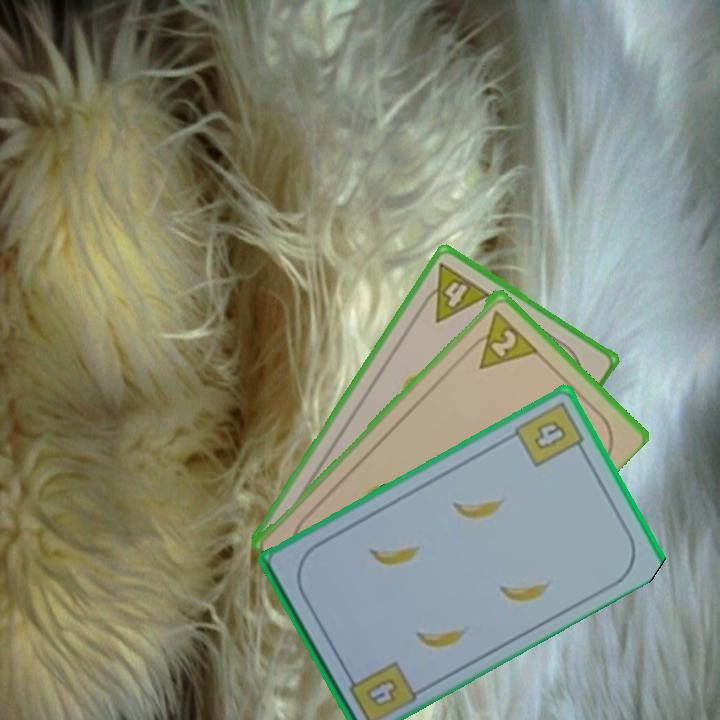2p: (463, 305, 540, 372)
4b: (511, 397, 589, 470), (366, 677, 398, 706)
4p: (414, 259, 494, 326)
